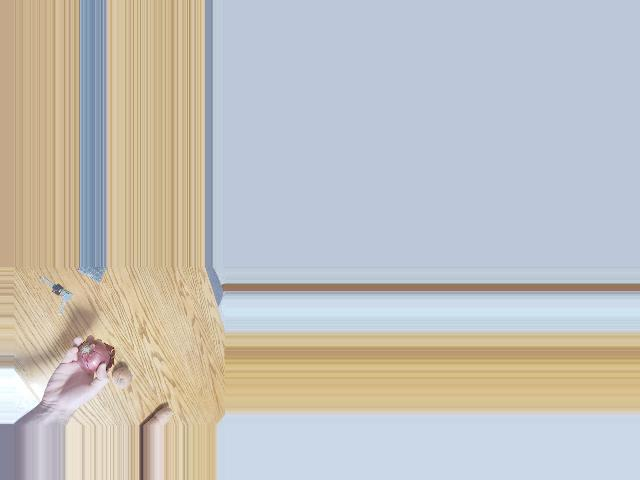onion: (111, 369, 134, 391)
